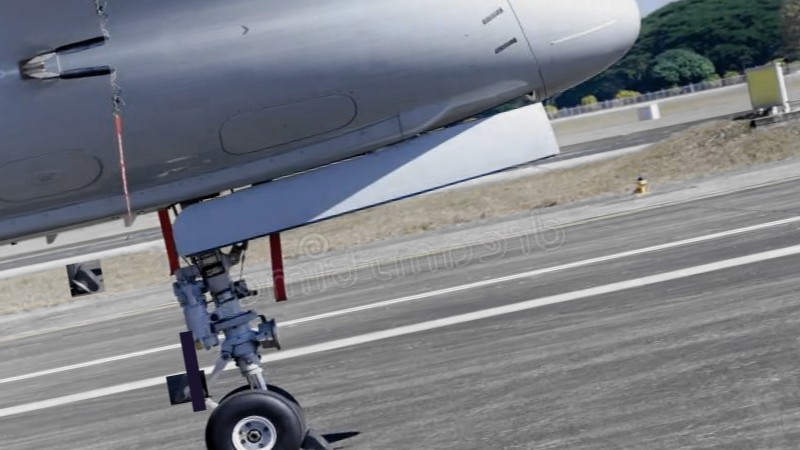chock: (165, 370, 209, 405), (66, 259, 105, 298), (290, 423, 340, 450)
wheel: (194, 373, 317, 450), (213, 374, 301, 426)
